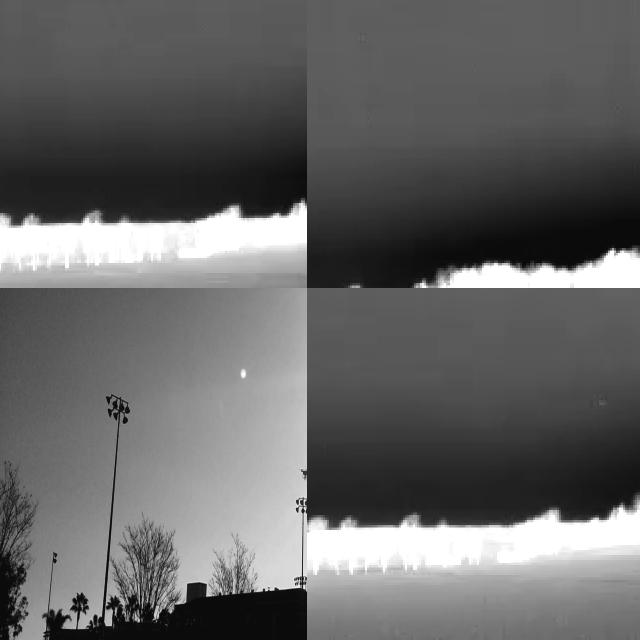0: (586, 388, 612, 424)
drone: (296, 463, 307, 487)
